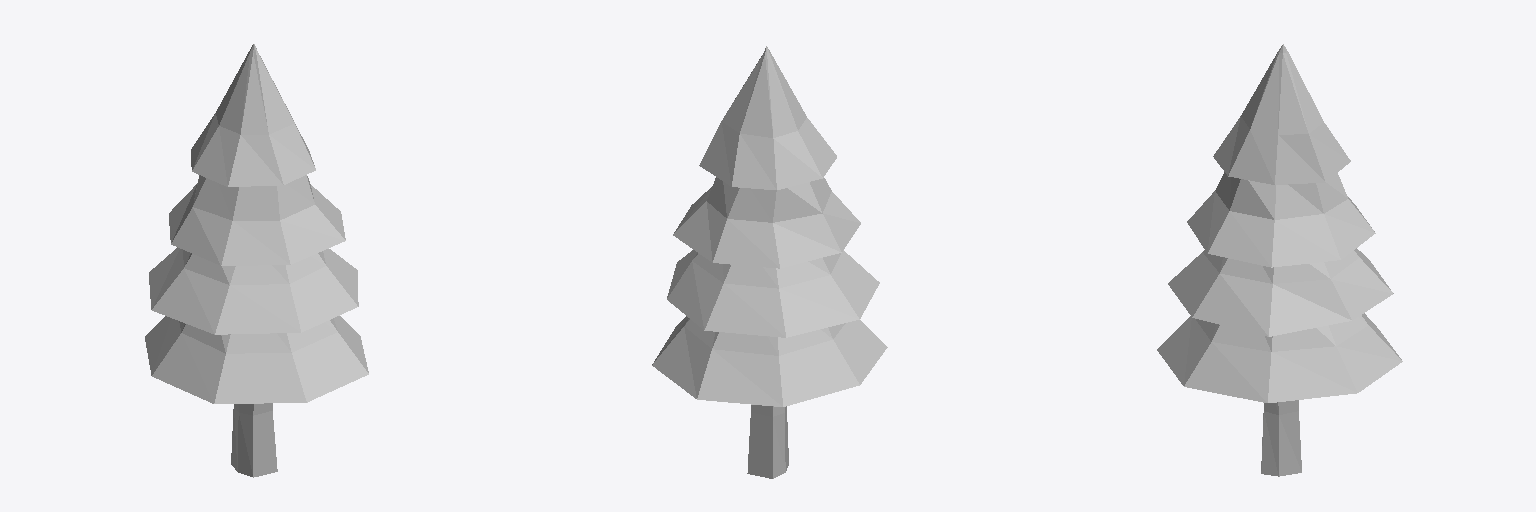
The model's file is tree.obj.
3 renders of one model, left to right at view 1: azimuth 30°, elevation 25°; view 2: azimuth 150°, elevation 25°; view 3: azimuth 270°, elevation 25°, orthographic.
Visible parts, largest first — view 1: Tree.001; view 2: Tree.001; view 3: Tree.001.
Part boxes in pixels (left/top/right/bottom): Tree.001: left=145, top=44, right=368, bottom=477; Tree.001: left=652, top=46, right=887, bottom=478; Tree.001: left=1157, top=44, right=1402, bottom=476.
Size of the model in its own units: 2.94 by 6.06 by 3.19.